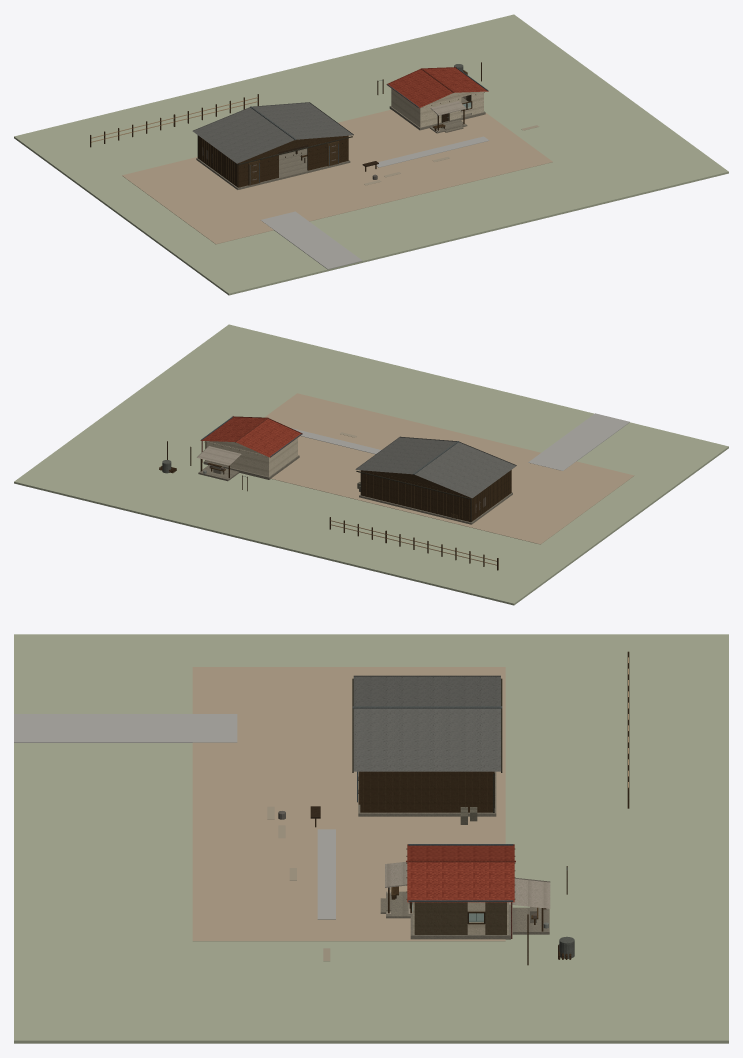
File: LRP03.gltf
3 renders of one model, top to bottom at view 1: azimuth 30°, elevation 25°; view 2: azimuth 150°, elevation 25°; view 3: azimuth 270°, elevation 25°, orthographic. The views are drawn at different scales.
Parts seen in each view (by area): view 1: LRP03_SOLO_PLANO_0001_0001, LRP03_TERREIRO_DE_TERRA_0002_0002, GALPAO_AGUA_OESTE_0008_0012, LRP03_CAMINHO_ACESSO_0003_0003, GALPAO_AGUA_LESTE_0009_0013, CASA_AGUA_SUL_0122_0126, GALPAO_FUNDACAO_0001_0005, GALPAO_LATERAL_ESQUERDA_0003_0007, CASA_AGUA_NORTE_0123_0127, GALPAO_FACHADA_SEGMENTO_0006_0010, GALPAO_FACHADA_SEGMENTO_0005_0009, LRP03_CAMINHO_CASA_GALPAO_0004_0004 (+1 smaller); view 2: LRP03_SOLO_PLANO_0001_0001, LRP03_TERREIRO_DE_TERRA_0002_0002, GALPAO_AGUA_OESTE_0008_0012, GALPAO_PAREDE_FUNDO_0002_0006, LRP03_CAMINHO_ACESSO_0003_0003, GALPAO_AGUA_LESTE_0009_0013, CASA_AGUA_SUL_0122_0126, GALPAO_LATERAL_ESQUERDA_0003_0007, CASA_PAREDE_FUNDO_0111_0115, CASA_AGUA_NORTE_0123_0127, CASA_PAREDE_LATERAL_0112_0116, LRP03_CAMINHO_CASA_GALPAO_0004_0004 (+2 smaller); view 3: LRP03_SOLO_PLANO_0001_0001, LRP03_TERREIRO_DE_TERRA_0002_0002, GALPAO_AGUA_LESTE_0009_0013, LRP03_CAMINHO_ACESSO_0003_0003, GALPAO_LATERAL_DIREITA_0004_0008, GALPAO_AGUA_OESTE_0008_0012, CASA_AGUA_NORTE_0123_0127, R03_CASA_PAREDE_LATERAL_ANTES_JANELA, CASA_AGUA_SUL_0122_0126, LRP03_CAMINHO_CASA_GALPAO_0004_0004, CASA_ANEXO_COBERTURA_0132_0136, CASA_ANEXO_PISO_0129_0133 (+3 smaller).
Part boxes in pixels (x1,y1,x2,y2): LRP03_SOLO_PLANO_0001_0001: [14, 14, 728, 295]; LRP03_TERREIRO_DE_TERRA_0002_0002: [122, 109, 552, 244]; GALPAO_AGUA_OESTE_0008_0012: [192, 107, 294, 163]; LRP03_CAMINHO_ACESSO_0003_0003: [261, 211, 362, 269]; GALPAO_AGUA_LESTE_0009_0013: [252, 102, 353, 139]; CASA_AGUA_SUL_0122_0126: [386, 68, 452, 108]; GALPAO_FUNDACAO_0001_0005: [196, 148, 350, 189]; GALPAO_LATERAL_ESQUERDA_0003_0007: [198, 136, 239, 187]; CASA_AGUA_NORTE_0123_0127: [422, 67, 488, 92]; GALPAO_FACHADA_SEGMENTO_0006_0010: [307, 135, 348, 170]; GALPAO_FACHADA_SEGMENTO_0005_0009: [238, 151, 278, 187]; LRP03_CAMINHO_CASA_GALPAO_0004_0004: [376, 136, 489, 167]; LRP03_SOLO_PLANO_0001_0001: [14, 324, 728, 605]; LRP03_TERREIRO_DE_TERRA_0002_0002: [264, 393, 634, 544]; GALPAO_AGUA_OESTE_0008_0012: [415, 441, 516, 498]; GALPAO_PAREDE_FUNDO_0002_0006: [360, 470, 471, 521]; LRP03_CAMINHO_ACESSO_0003_0003: [528, 413, 629, 470]; GALPAO_AGUA_LESTE_0009_0013: [355, 436, 457, 474]; CASA_AGUA_SUL_0122_0126: [235, 418, 302, 457]; GALPAO_LATERAL_ESQUERDA_0003_0007: [470, 470, 511, 521]; CASA_PAREDE_FUNDO_0111_0115: [205, 441, 269, 476]; CASA_AGUA_NORTE_0123_0127: [200, 416, 267, 441]; CASA_PAREDE_LATERAL_0112_0116: [268, 438, 297, 476]; LRP03_CAMINHO_CASA_GALPAO_0004_0004: [291, 428, 380, 454]; LRP03_SOLO_PLANO_0001_0001: [14, 634, 728, 1043]; LRP03_TERREIRO_DE_TERRA_0002_0002: [192, 667, 505, 941]; GALPAO_AGUA_LESTE_0009_0013: [353, 708, 500, 771]; LRP03_CAMINHO_ACESSO_0003_0003: [14, 714, 237, 742]; GALPAO_LATERAL_DIREITA_0004_0008: [360, 771, 493, 812]; GALPAO_AGUA_OESTE_0008_0012: [353, 675, 500, 706]; CASA_AGUA_NORTE_0123_0127: [407, 860, 514, 902]; R03_CASA_PAREDE_LATERAL_ANTES_JANELA: [414, 902, 467, 934]; CASA_AGUA_SUL_0122_0126: [407, 844, 514, 860]; LRP03_CAMINHO_CASA_GALPAO_0004_0004: [317, 829, 335, 919]; CASA_ANEXO_COBERTURA_0132_0136: [509, 877, 550, 908]; CASA_ANEXO_PISO_0129_0133: [512, 907, 549, 934].
Bounding box in the file's own units: 86 × 6.67 × 64.
Materials: 8 (6 with a texture image).
